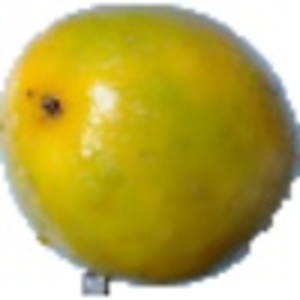maracujá: (1, 3, 300, 298)
